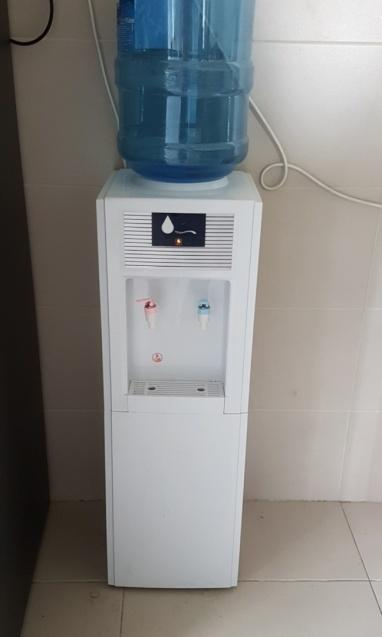Dispenser: (95, 0, 262, 589)
